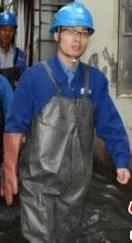hard-hat: (49, 0, 95, 34)
ppe-suit: (0, 62, 44, 221)
